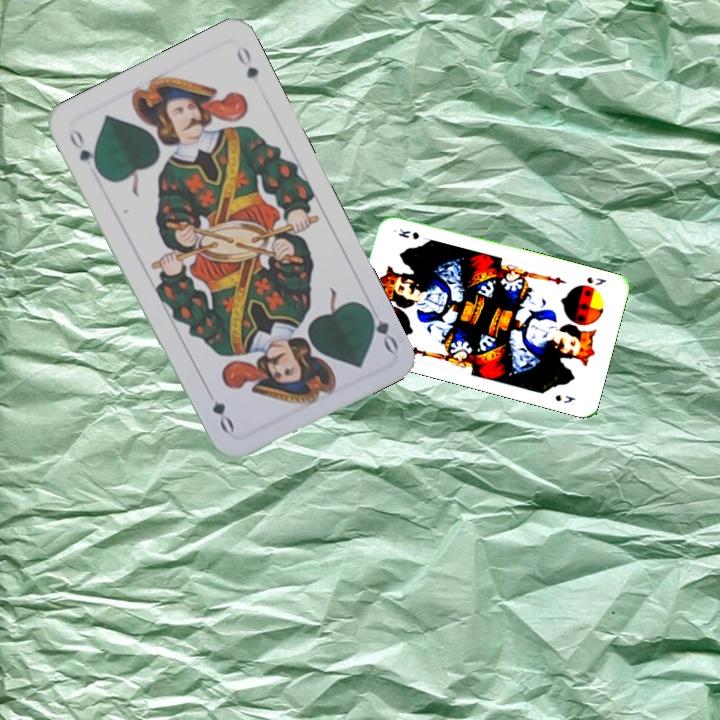GO: (360, 302, 401, 355), (65, 125, 103, 177)
SK: (583, 273, 609, 288)
